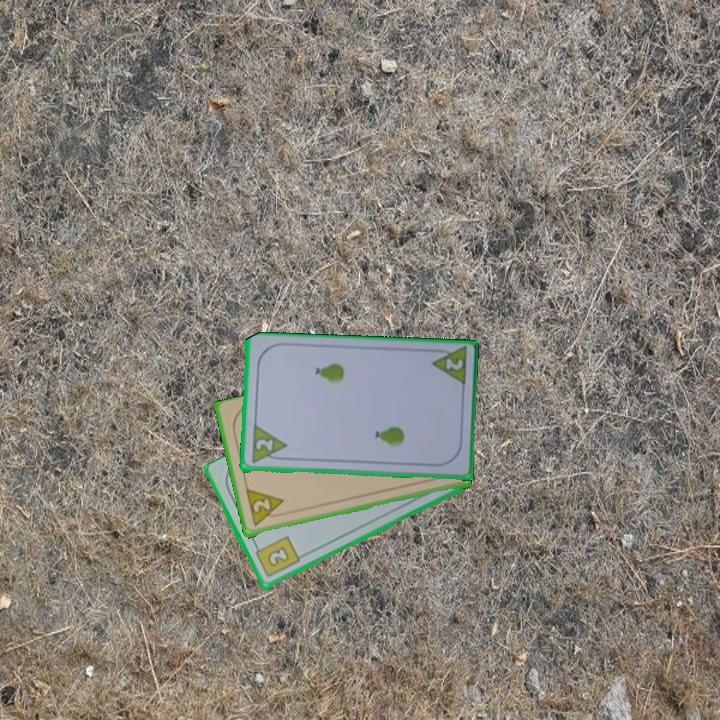2b: (251, 533, 303, 580)
2p: (242, 486, 289, 530), (248, 423, 289, 467), (428, 345, 469, 389)
